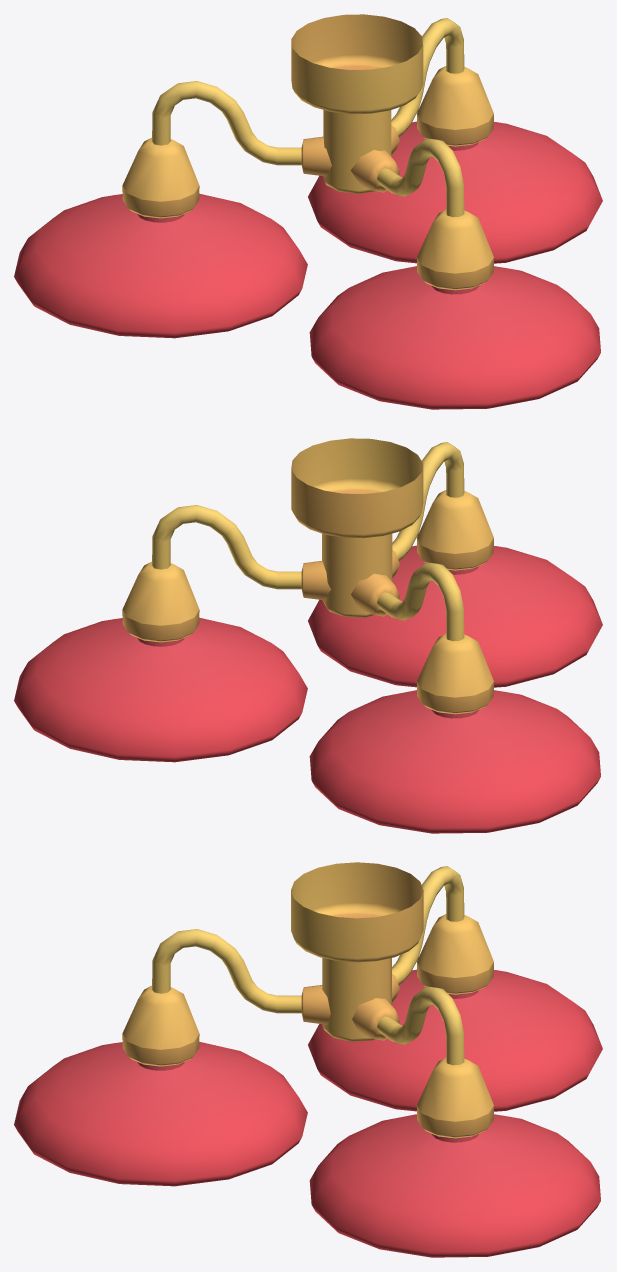
File: Light_003.fbx
3 renders of one model, top to bottom at view 1: azimuth 30°, elevation 25°; view 2: azimuth 150°, elevation 25°; view 3: azimuth 270°, elevation 25°, orthographic.
Visible parts, largest first — view 1: Light_003; view 2: Light_003; view 3: Light_003.
Part boxes in pixels (x1,y1,x2,y2): Light_003: (14,14,602,409); Light_003: (14,438,602,833); Light_003: (14,862,602,1257).
Bounding box in the file's own units: 1.92 × 0.8797 × 1.79.
